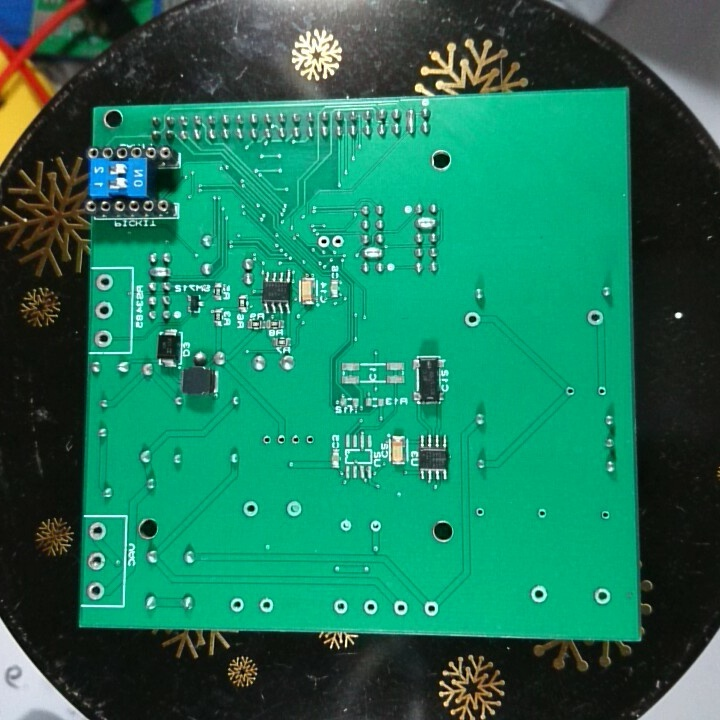F: (528, 580, 554, 609), (94, 269, 117, 296), (84, 579, 107, 603), (94, 298, 116, 323), (93, 328, 115, 352), (85, 552, 107, 575), (87, 520, 109, 543), (284, 496, 304, 520), (592, 584, 613, 606), (390, 598, 411, 620), (330, 597, 351, 619), (256, 596, 278, 617), (584, 307, 605, 328), (462, 309, 484, 329), (228, 594, 247, 617), (242, 497, 261, 520), (361, 597, 379, 620), (421, 597, 440, 618), (336, 517, 358, 535), (331, 229, 345, 253), (561, 382, 579, 400), (274, 429, 288, 451), (316, 232, 330, 252), (536, 505, 551, 523), (595, 382, 608, 402), (599, 507, 613, 525), (368, 518, 382, 535), (288, 432, 302, 449), (259, 433, 273, 449), (304, 432, 315, 450), (473, 505, 487, 518)
P: (410, 215, 444, 232), (404, 105, 419, 138), (361, 243, 387, 260), (144, 265, 174, 278)
